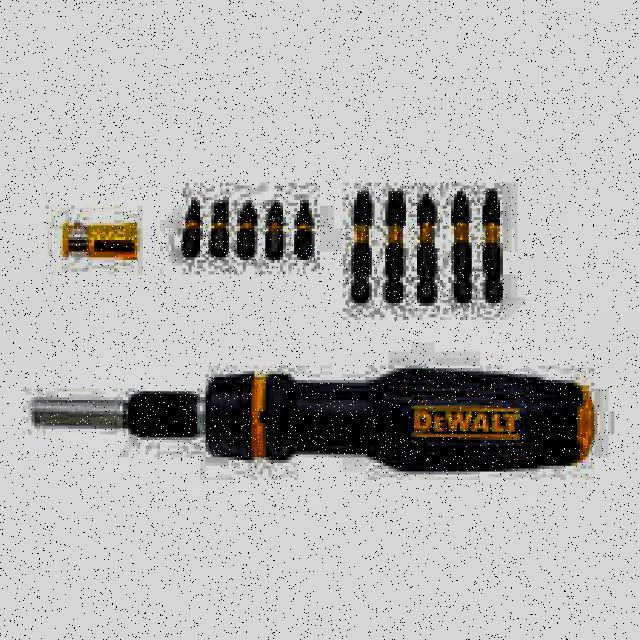screwdriver: (32, 368, 594, 470)
